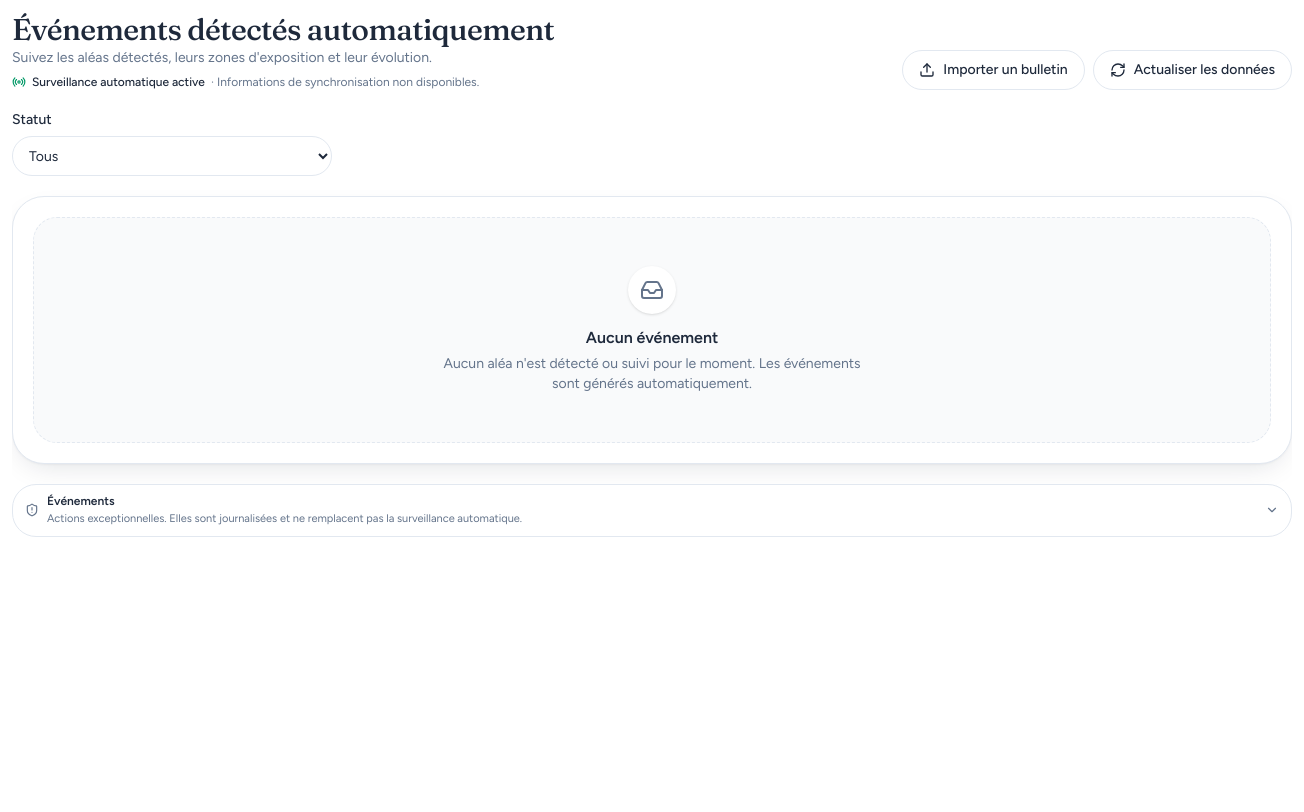
EvenementsPage — création d’un événement exceptionnel › affiche l’action autorisée pour ADMIN
The width and height of the screenshot is (1304, 812).
Click the button "Actions exceptionnelles": (81, 501) left=13, top=485, right=1291, bottom=536
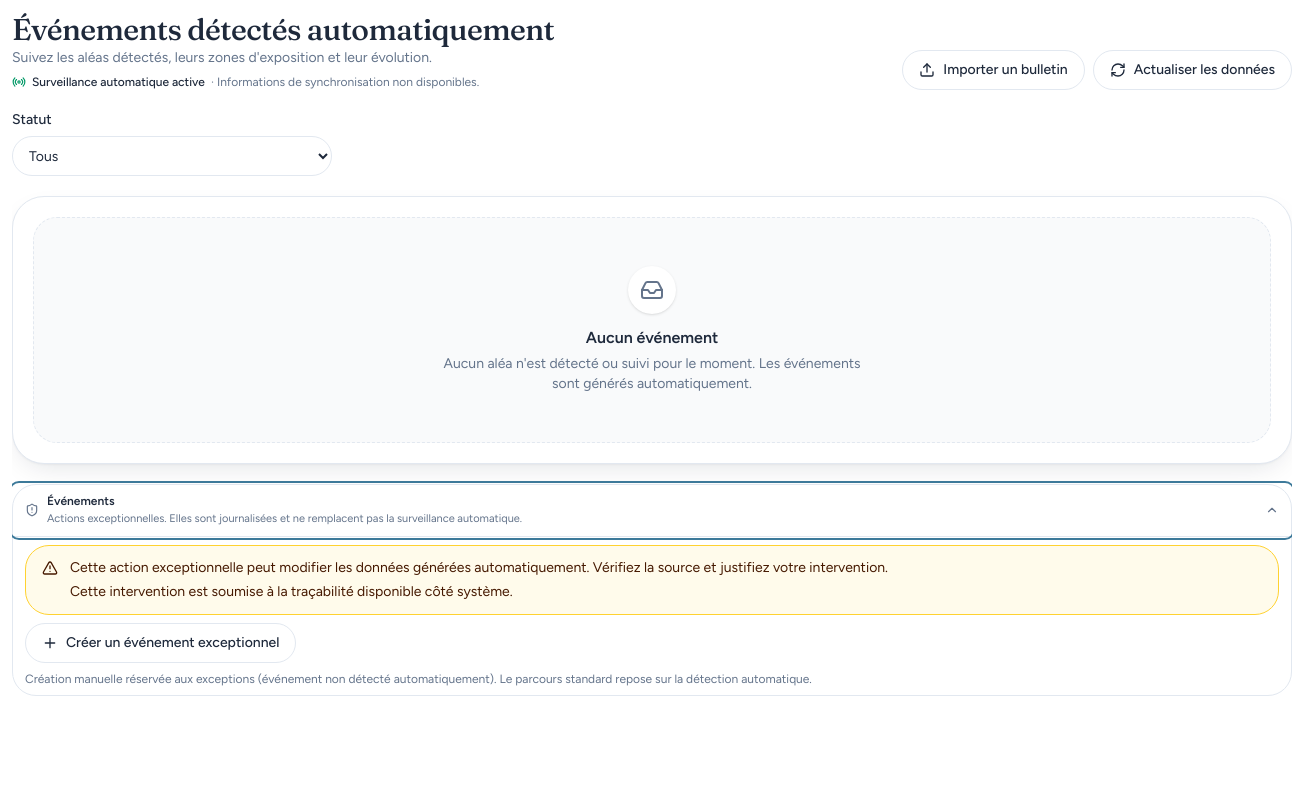
Expected: the button "Créer un événement exceptionnel" is shown, left=25, top=622, right=296, bottom=662
